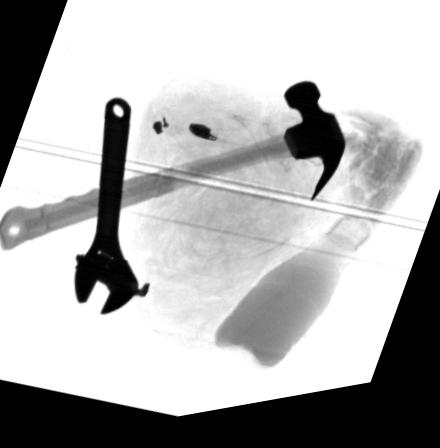Hammer: (0, 91, 346, 250)
Wrench: (73, 100, 136, 318)
